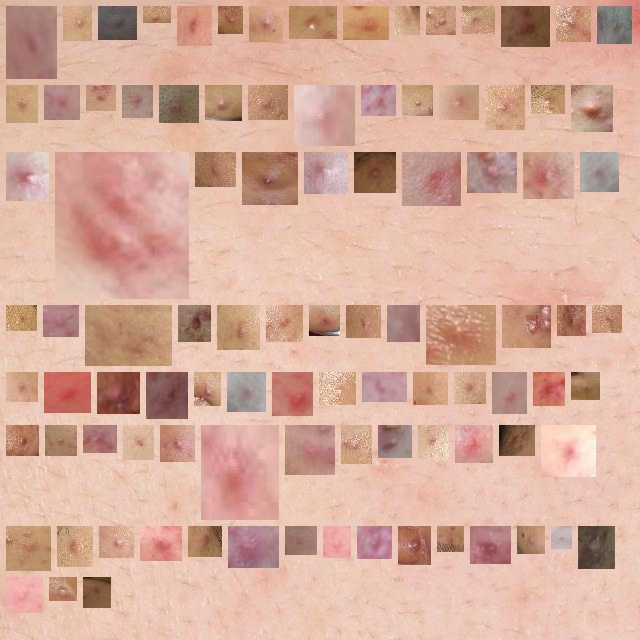papule: (63, 160, 181, 291), (209, 433, 271, 512), (93, 313, 164, 358), (434, 313, 488, 357), (302, 93, 347, 138), (14, 14, 49, 71), (410, 160, 453, 198), (250, 160, 290, 197), (549, 433, 588, 469), (293, 433, 327, 467), (531, 160, 566, 191), (236, 534, 271, 560), (14, 160, 41, 193), (510, 313, 543, 340), (475, 160, 509, 185), (14, 534, 43, 563), (509, 14, 542, 39), (579, 93, 605, 124), (154, 380, 180, 411), (225, 313, 252, 342), (52, 380, 83, 405), (312, 160, 340, 186), (105, 380, 132, 406), (280, 380, 305, 408), (493, 93, 517, 122), (362, 160, 388, 185), (586, 534, 607, 561), (588, 160, 611, 184), (235, 380, 258, 404), (478, 534, 503, 556), (297, 14, 329, 31), (351, 14, 381, 32), (167, 93, 191, 115), (65, 534, 85, 559), (500, 380, 519, 406), (148, 534, 174, 553), (463, 433, 485, 455), (203, 160, 228, 179), (185, 14, 204, 38), (256, 93, 280, 112), (447, 93, 471, 112), (274, 313, 295, 334), (213, 93, 234, 113), (14, 585, 35, 605), (605, 14, 624, 36), (106, 14, 129, 32), (370, 380, 399, 394), (168, 433, 187, 454), (406, 534, 423, 557), (564, 14, 583, 34), (52, 93, 72, 112), (257, 14, 275, 34), (186, 313, 203, 334), (395, 313, 412, 334), (327, 380, 348, 397), (14, 93, 30, 115), (349, 433, 364, 456), (354, 313, 373, 330), (421, 380, 440, 397), (365, 534, 384, 551), (51, 313, 71, 329), (386, 433, 404, 450), (107, 534, 126, 550), (507, 433, 527, 448), (541, 380, 557, 398), (369, 93, 388, 108), (131, 433, 146, 452), (426, 433, 441, 451), (196, 534, 214, 549), (462, 380, 478, 396), (130, 93, 145, 110), (14, 433, 31, 448), (71, 14, 84, 33), (53, 433, 69, 448), (539, 93, 557, 106), (410, 93, 425, 108), (317, 313, 332, 328), (14, 380, 30, 394), (91, 433, 109, 445), (293, 534, 309, 547), (470, 14, 487, 26), (202, 380, 213, 398), (565, 313, 578, 328), (331, 534, 343, 550), (434, 14, 448, 27), (91, 585, 103, 600), (600, 313, 614, 325), (579, 380, 592, 392), (14, 313, 29, 323), (525, 534, 537, 546), (94, 93, 108, 103), (403, 14, 412, 27), (445, 534, 456, 544), (151, 14, 163, 23), (226, 14, 235, 26), (57, 585, 69, 593), (559, 534, 564, 541)
